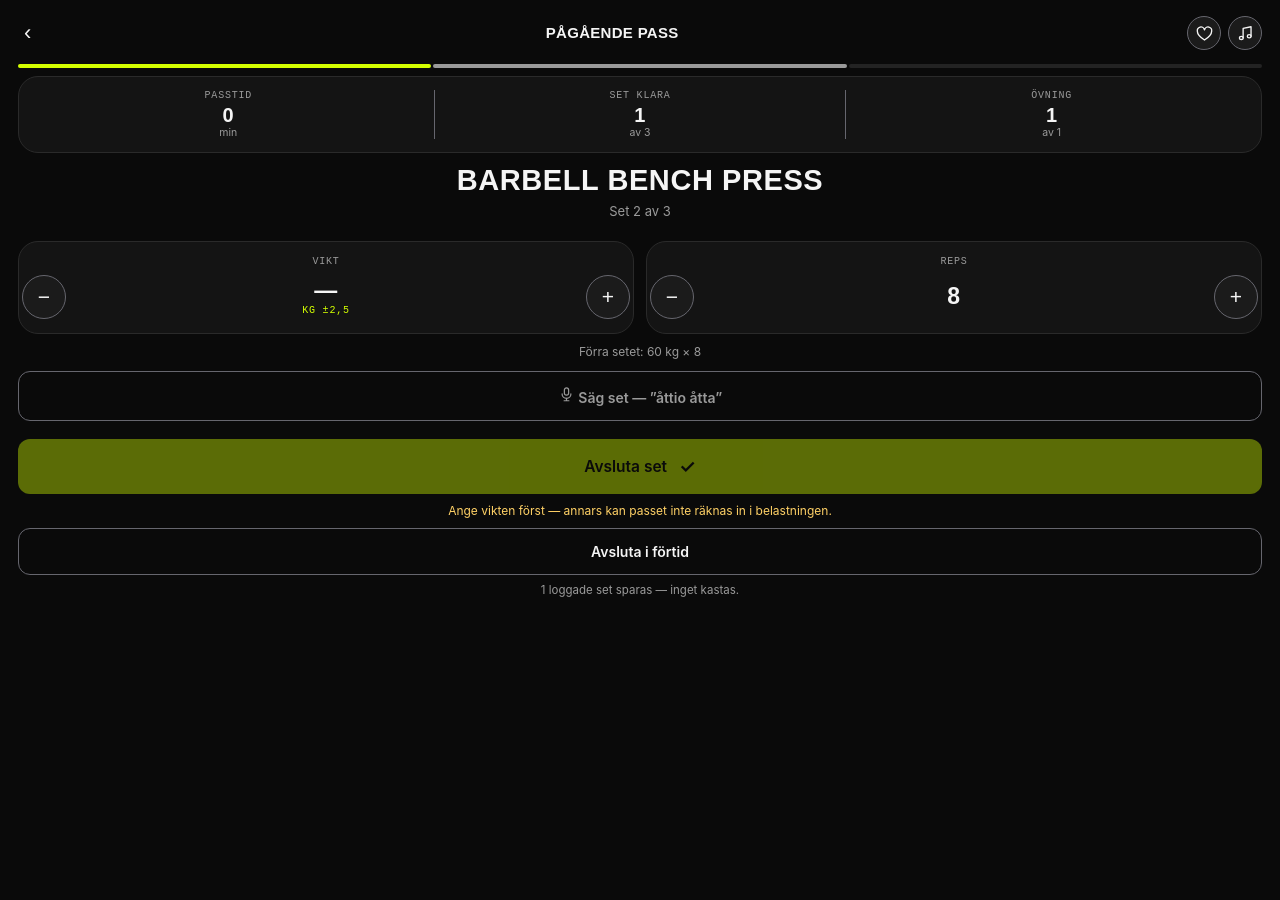
Test: passvyn och bandet › utan Web Bluetooth: knappen finns, och trycket ger skälet — inte en krasch
The width and height of the screenshot is (1280, 900).
Click the button named "Koppla pulsband" at (1204, 33), box [1187,16,1221,50]
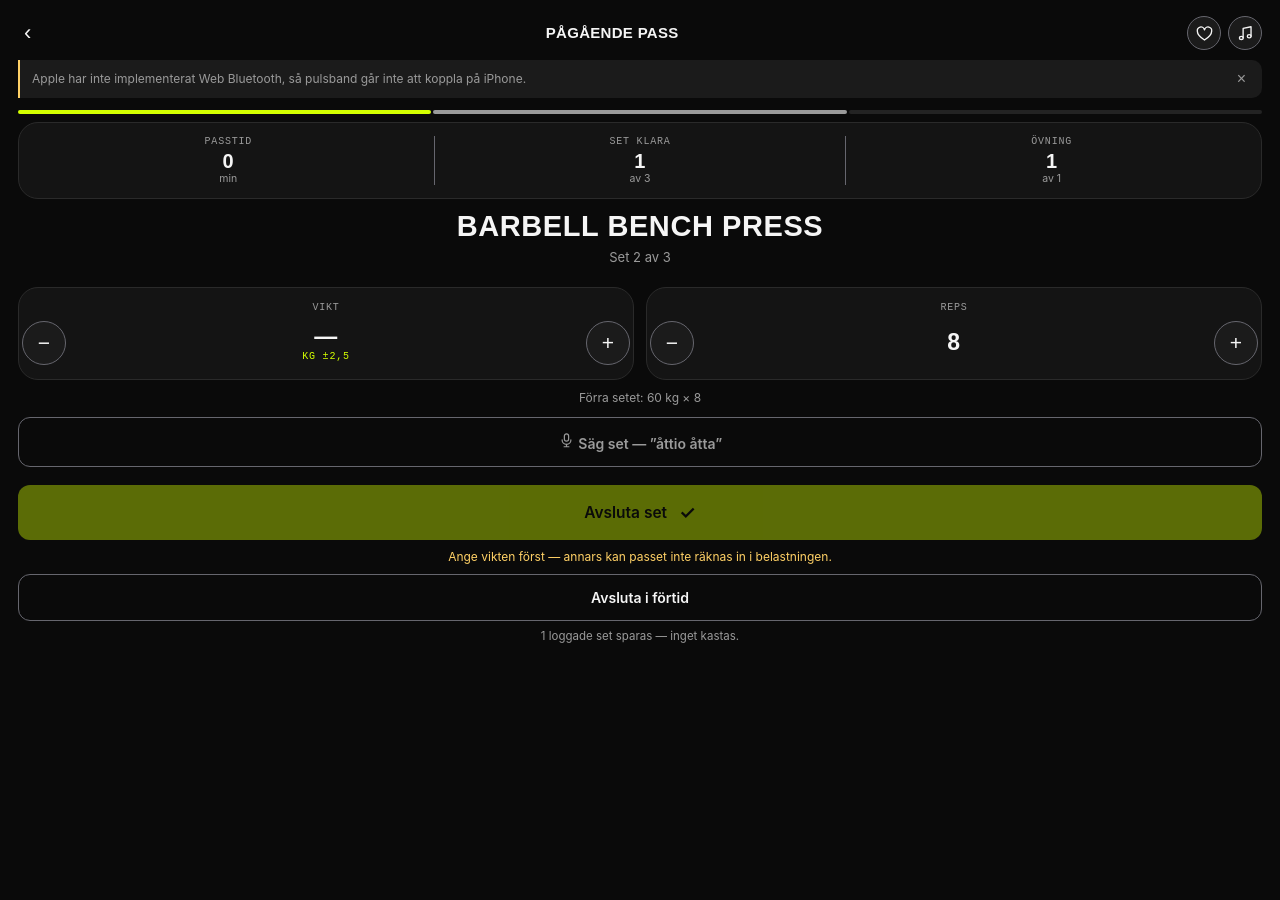
expect the text "Pågående pass" is shown: met, box [546,25,679,41]
expect the message is shown: met, box [18,60,1262,98]
expect the message shows "Apple": met, box [32,71,526,86]
